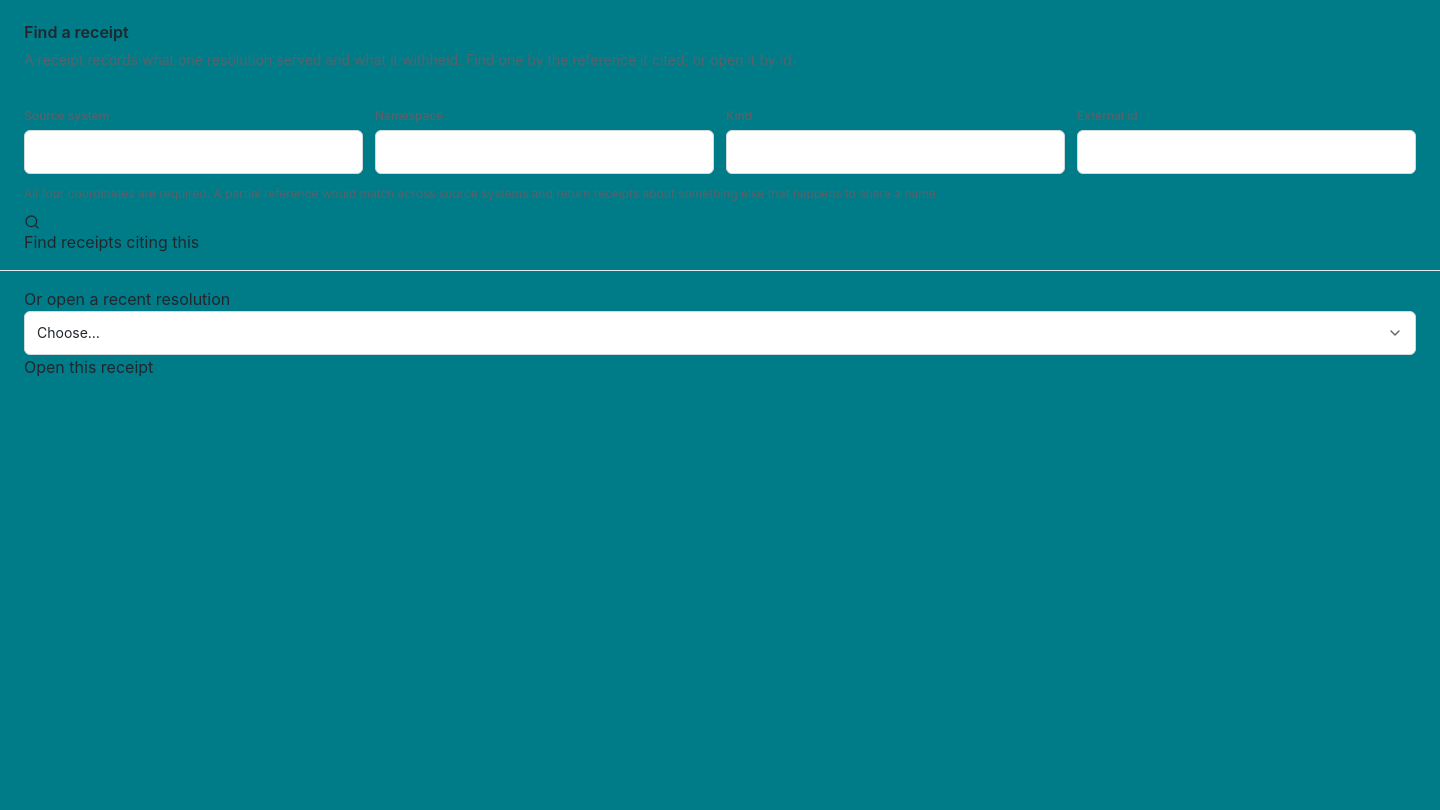
ReceiptExplorerPanel › says an empty exclusion list is an answer when the receipt is hydrated
What coordinates should you click on to do the following:
click the button with aria-label "Or open a recent resolution"
I would click on:
 (68, 332)
Its box is [24,311,1416,355].
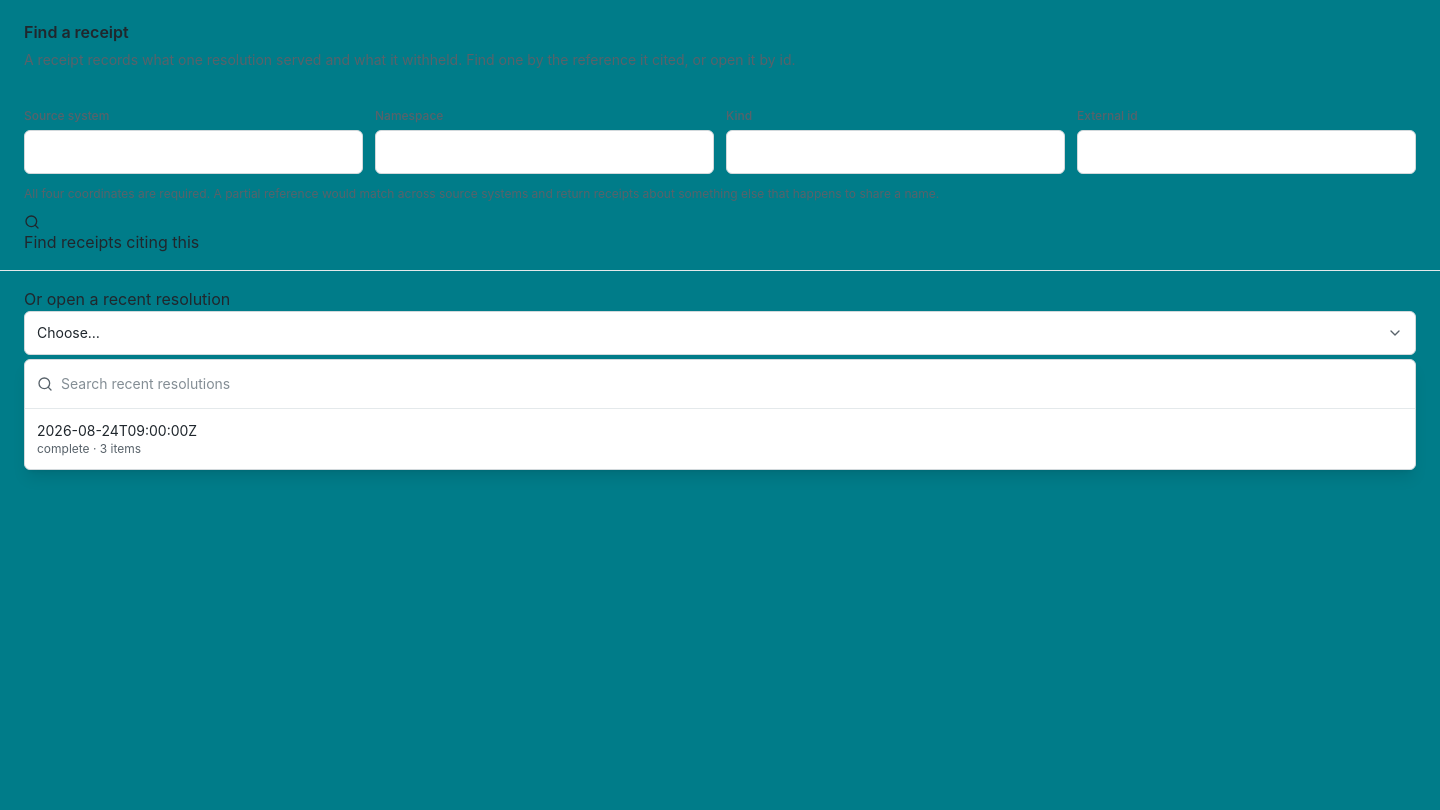
What coordinates should you click on to do the following:
click the option "2026-08-24T09:00:00Z complete · 3 items"
I would click on:
 (117, 430)
Its box is [25,413,1415,465].
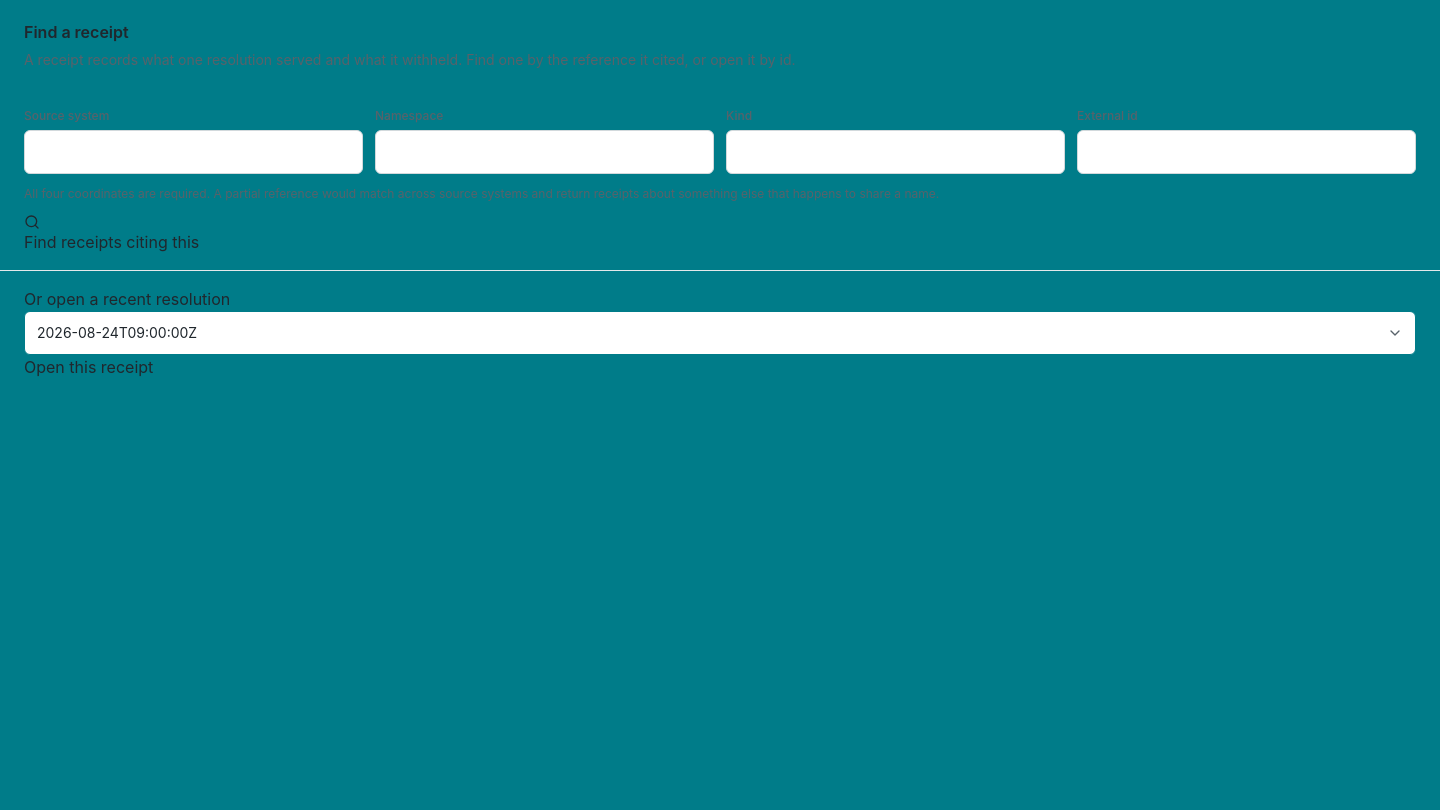
What coordinates should you click on to do the following:
click the button "Open this receipt"
I would click on:
 (89, 367)
Its box is [24,355,153,379].
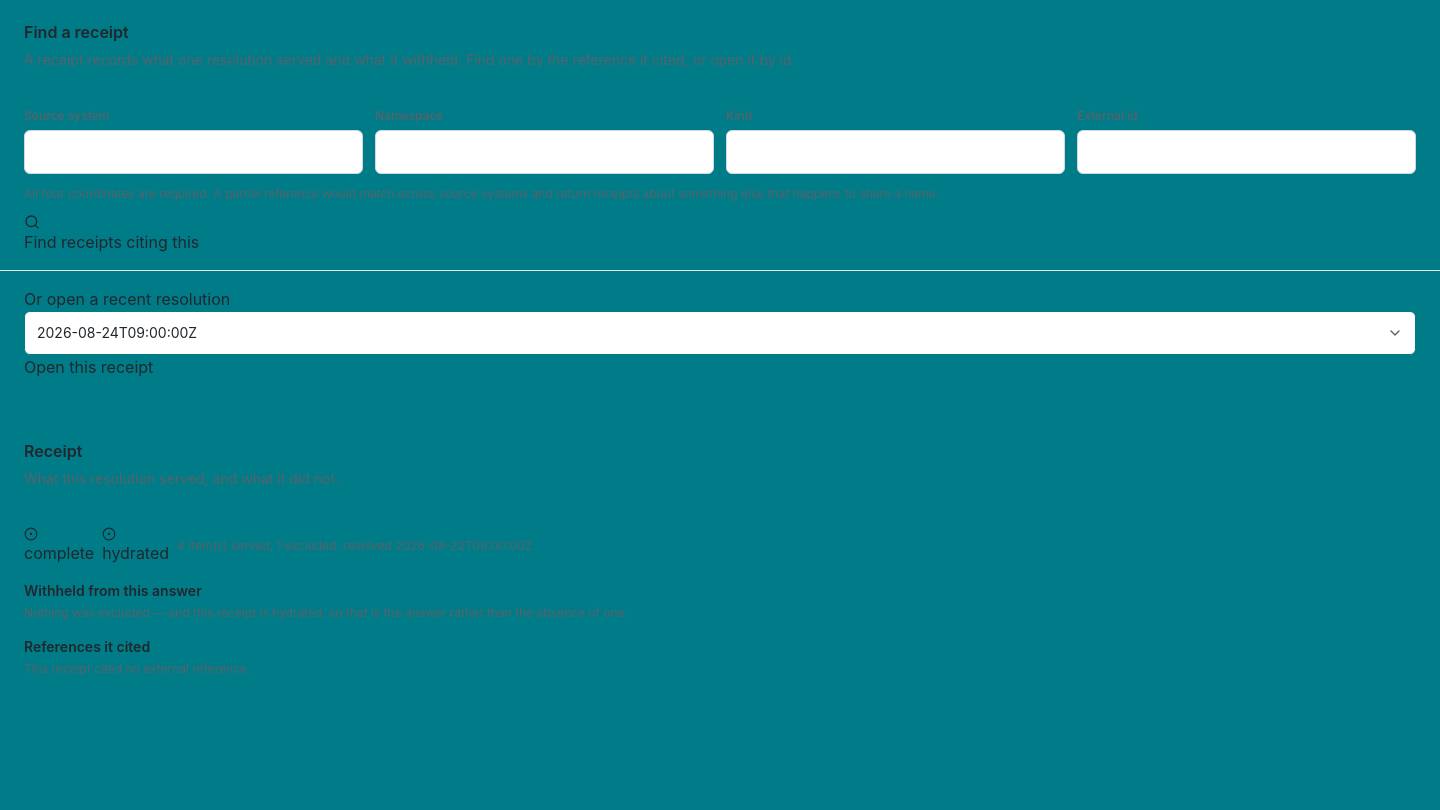
Result: the text "rather than the absence of one" is shown at [24,605,628,620]
